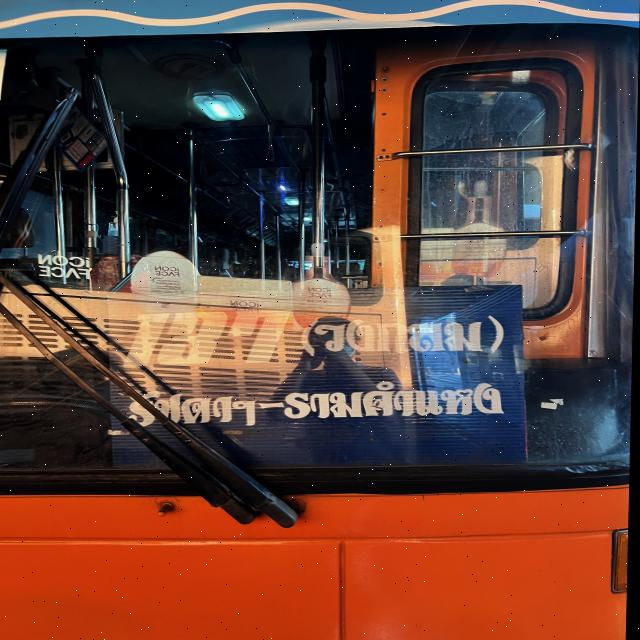BMTA-bus: (0, 0, 640, 640)
Destination-Sign-Normal: (105, 292, 534, 461)
